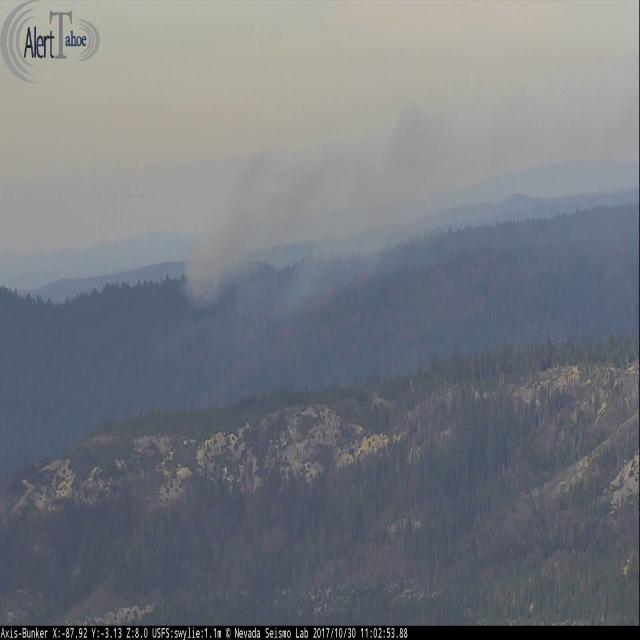smoke: (178, 96, 535, 300)
